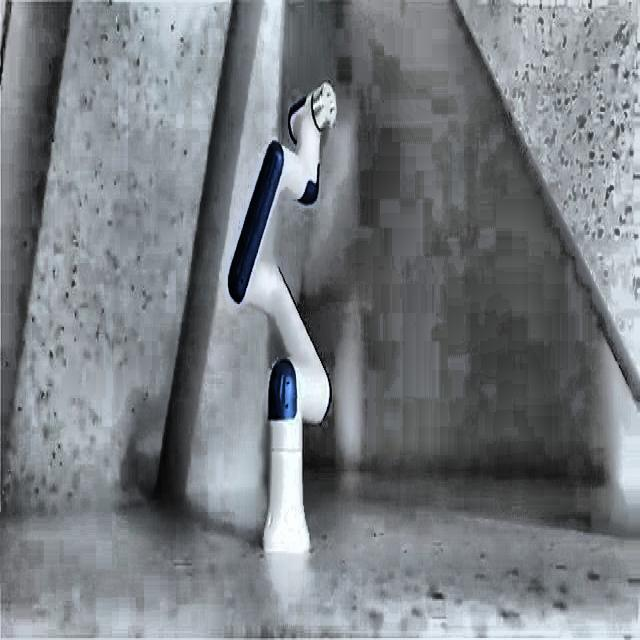robot: (226, 78, 337, 555)
